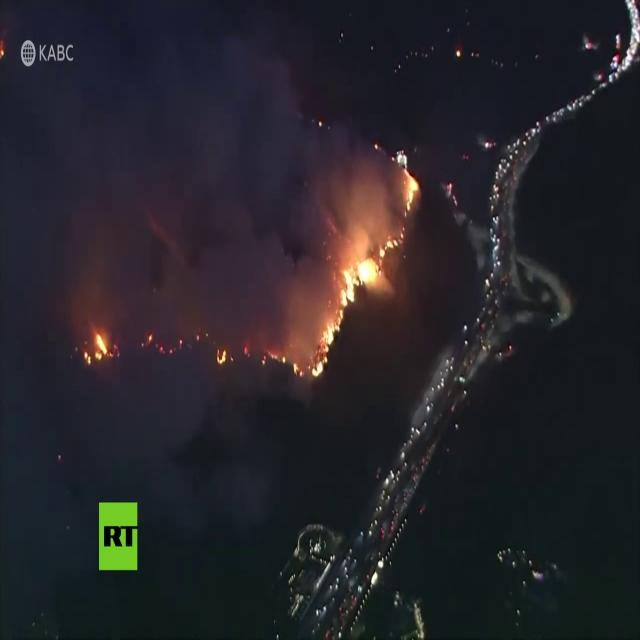Fire: (312, 268, 354, 374), (357, 240, 397, 284), (81, 332, 109, 363), (406, 168, 418, 211), (215, 346, 227, 364), (292, 362, 302, 376)
